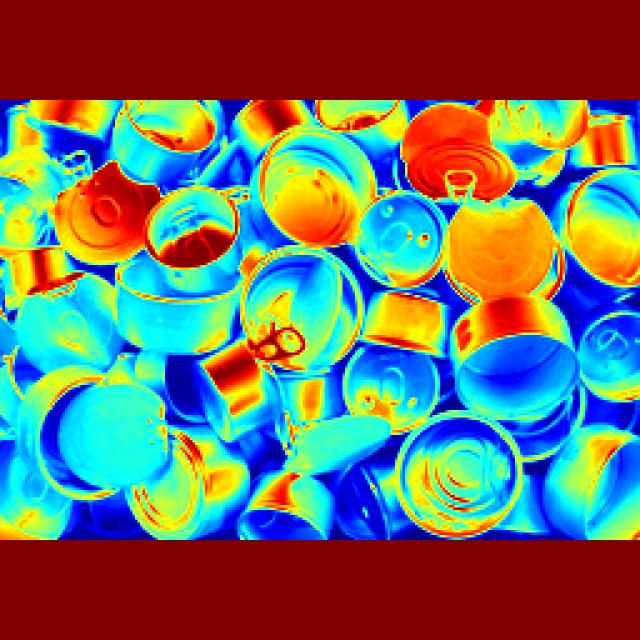Aluminium Food Cans: (418, 178, 562, 308), (34, 377, 159, 498), (253, 129, 367, 261), (232, 252, 350, 378), (404, 411, 514, 545), (452, 292, 564, 408), (128, 424, 238, 542), (121, 259, 232, 367), (554, 156, 640, 295), (2, 284, 122, 373), (357, 188, 440, 303), (148, 170, 254, 258), (544, 431, 640, 528), (44, 180, 158, 255), (182, 334, 274, 426), (396, 120, 510, 191), (133, 110, 223, 189), (579, 302, 639, 410), (15, 112, 120, 170), (269, 466, 328, 538)
